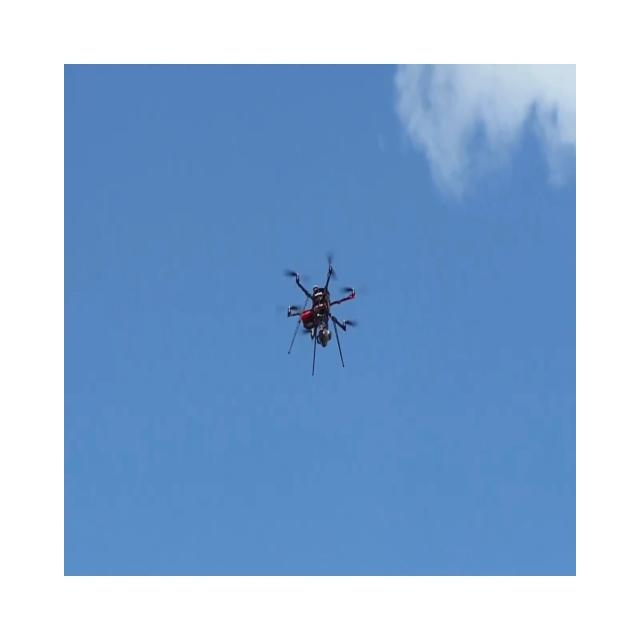drone: (282, 251, 358, 376)
